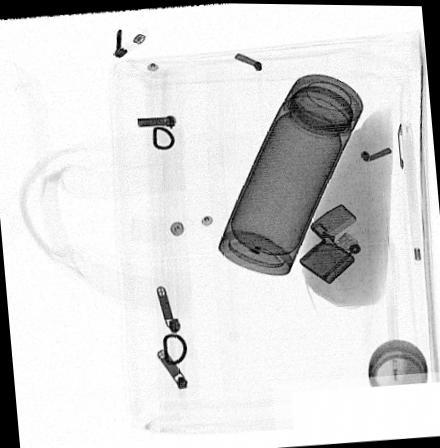Lighter: (297, 201, 360, 282)
